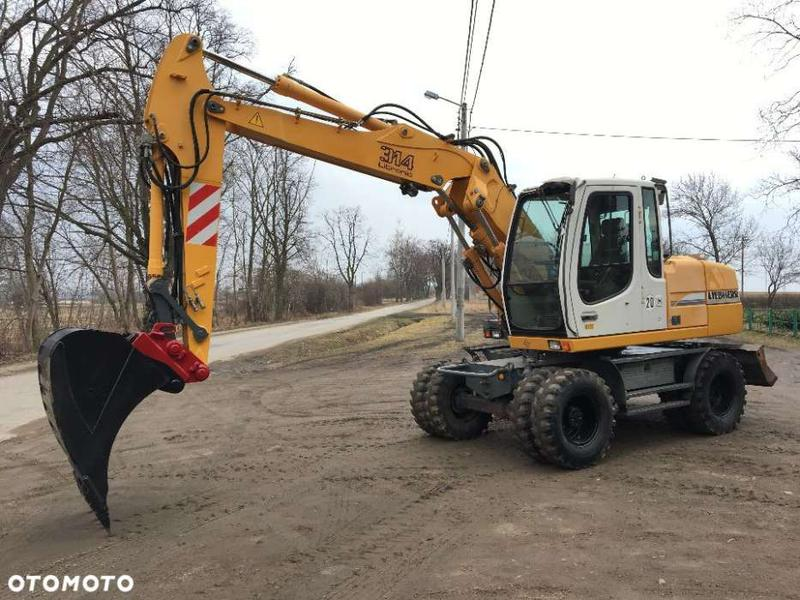shovel: (21, 32, 785, 533)
